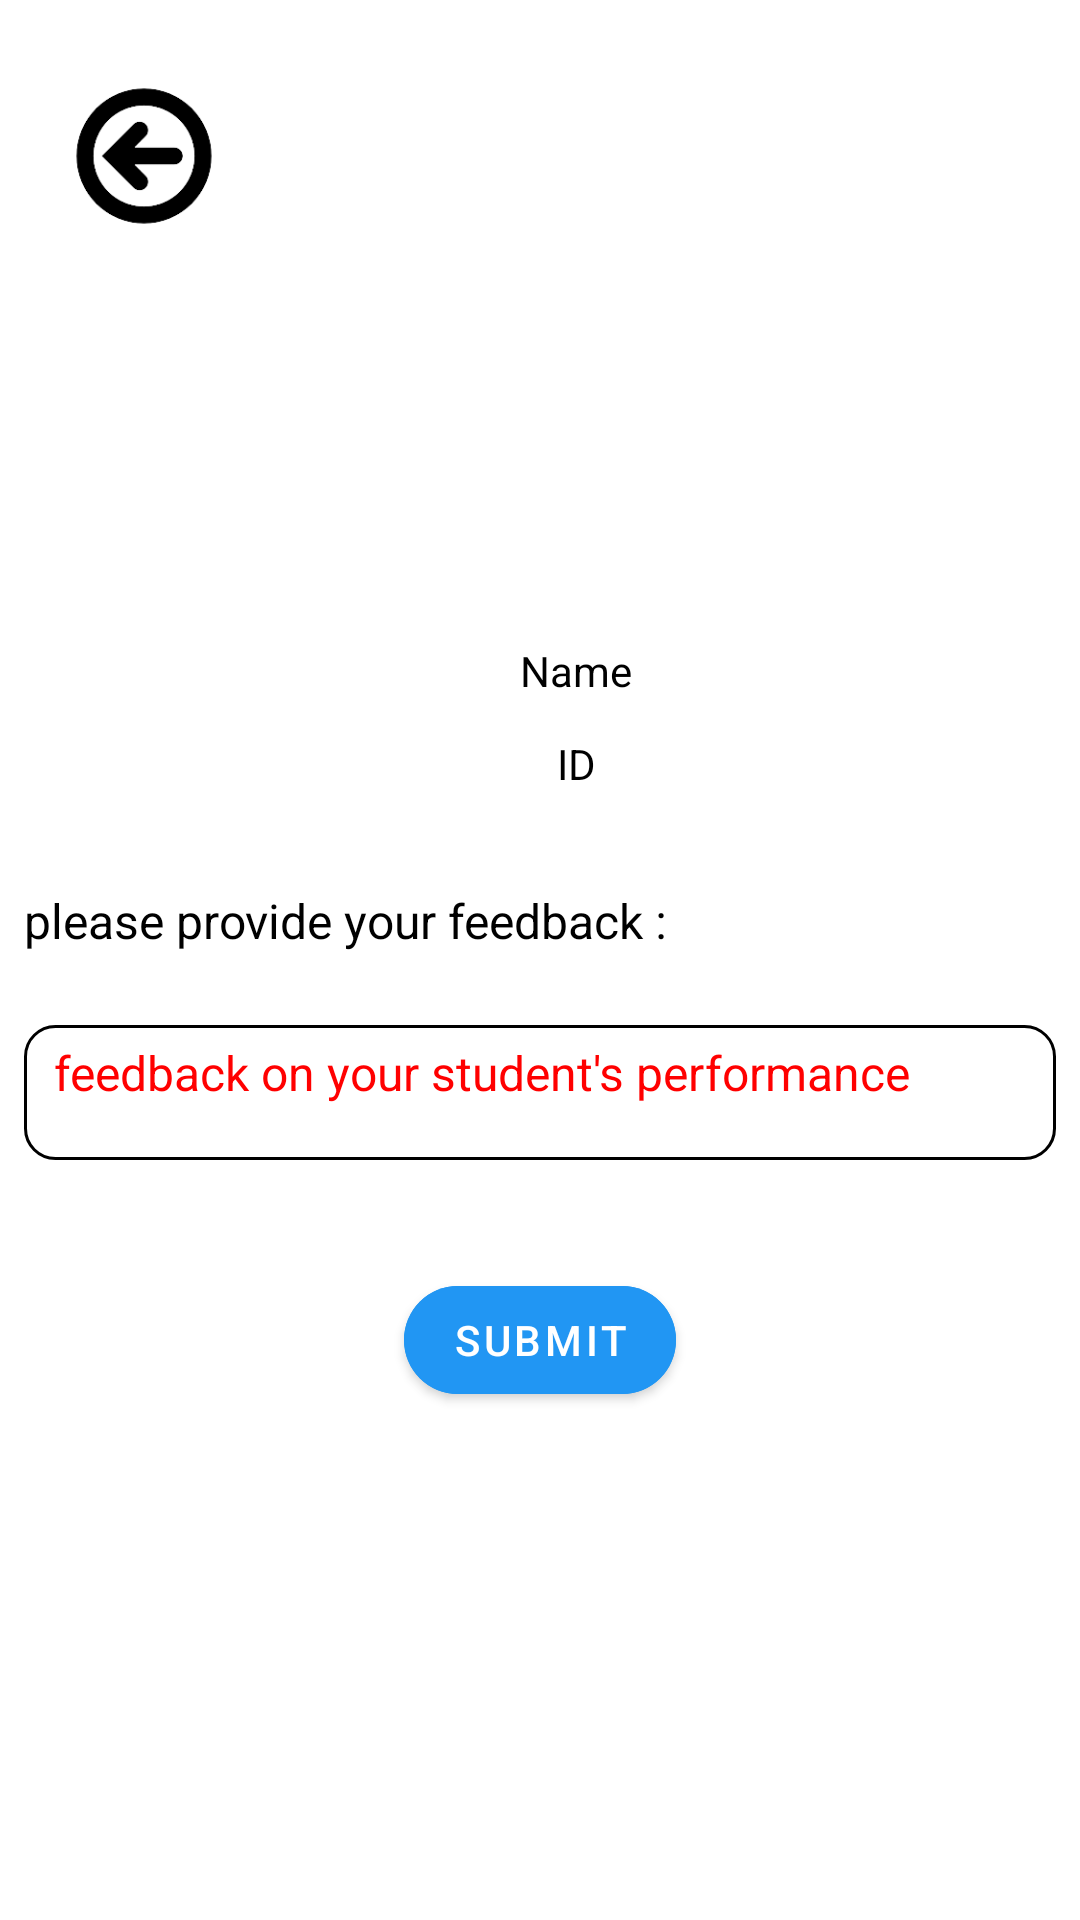

Icons on this 1080w x 1920h Android screen, each with its box as [x1=x1, y1=y1, x2=x2, y2=y2]:
backbutton: [x1=76, y1=88, x2=212, y2=224]
